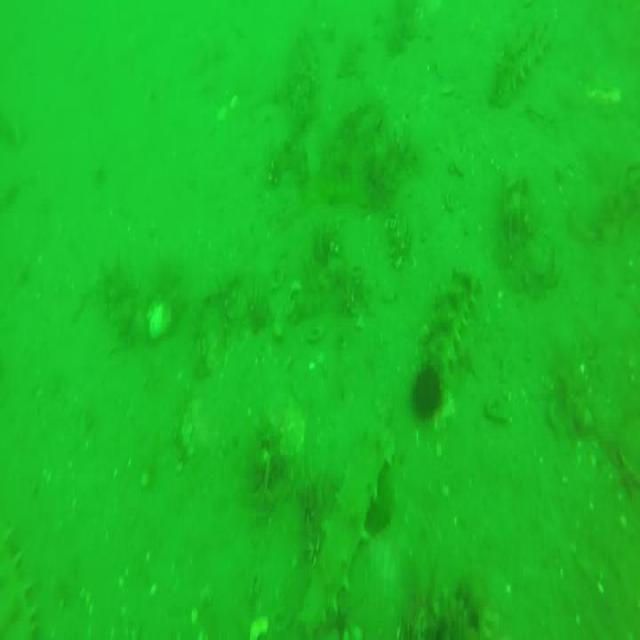echinus: (411, 365, 446, 424)
holothurian: (303, 422, 394, 640), (480, 0, 554, 100), (427, 270, 485, 386), (1, 502, 34, 640)
scallop: (146, 296, 174, 344)
